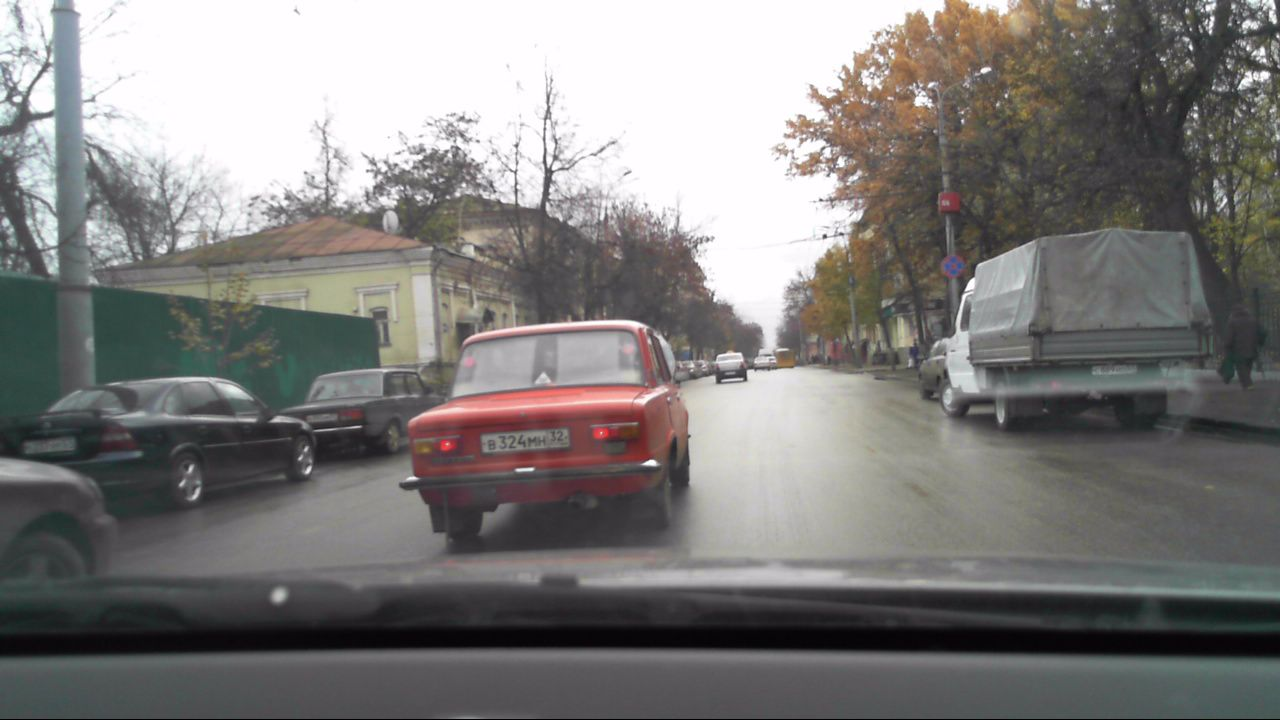No Parking: (940, 253, 963, 277)
